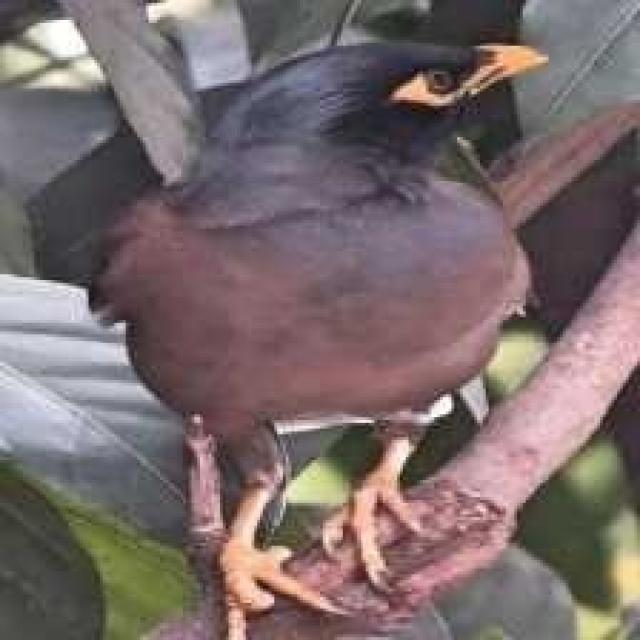bird: (79, 26, 556, 640)
